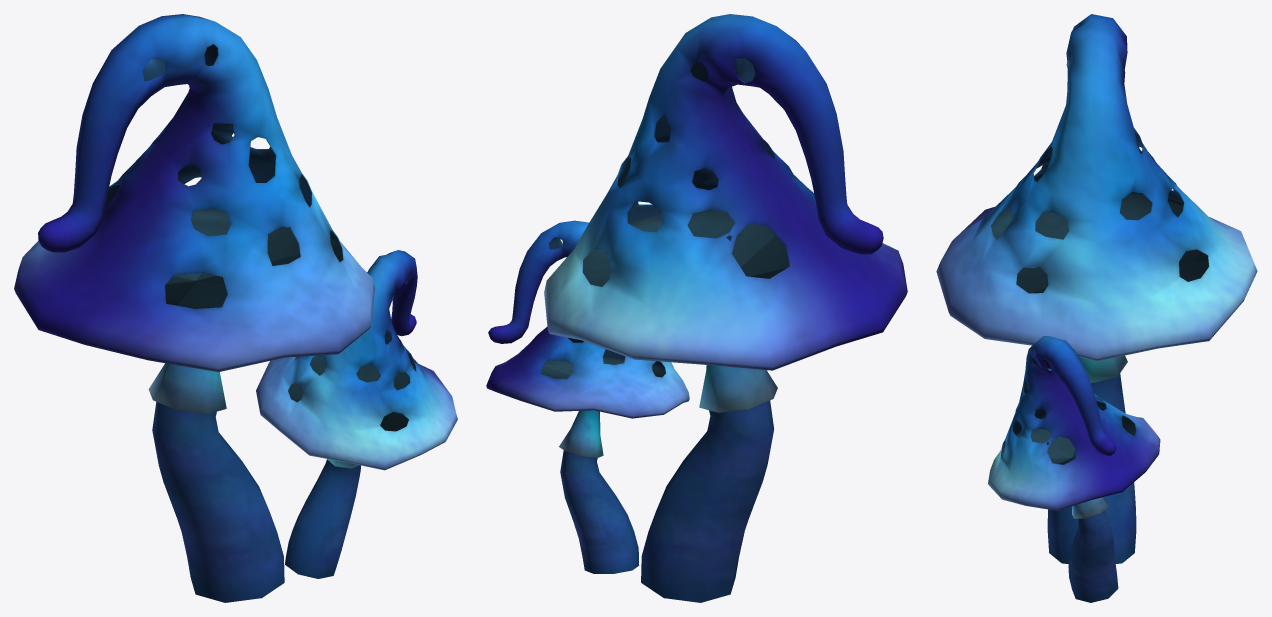
File: Cartoon Seaweed_13-1-13.fbx
3 views of the same model, side by side, from view 1: azimuth 30°, elevation 25°; view 2: azimuth 150°, elevation 25°; view 3: azimuth 270°, elevation 25° (orthographic). The views are drawn at different scales.
Parts seen in each view (by area): view 1: Cartoon Seaweed_13.1.13; view 2: Cartoon Seaweed_13.1.13; view 3: Cartoon Seaweed_13.1.13.
Part boxes in pixels (x1,y1,x2,y2): Cartoon Seaweed_13.1.13: (14,14,457,602); Cartoon Seaweed_13.1.13: (486,14,907,602); Cartoon Seaweed_13.1.13: (936,14,1257,602).
Size of the model in its own units: 15.93 by 22.58 by 12.8.
1 material, 1 textured.
